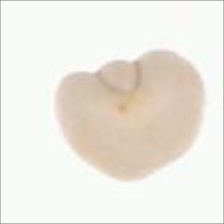L5: (91, 56, 152, 96), (109, 159, 185, 184)
L6: (51, 46, 210, 185)
